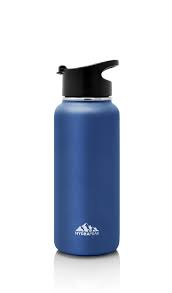bottle: (50, 57, 125, 258)
